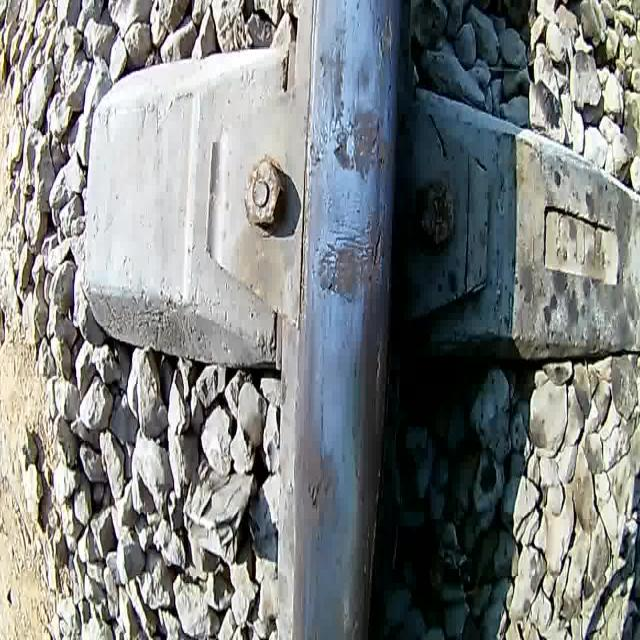Cracks: (384, 71, 397, 128), (373, 328, 384, 391)
Spallings: (304, 471, 326, 515), (370, 226, 386, 274)
Squats: (312, 196, 389, 310), (306, 17, 349, 182), (331, 102, 398, 180), (293, 438, 345, 538), (371, 5, 399, 72), (352, 48, 377, 100)
